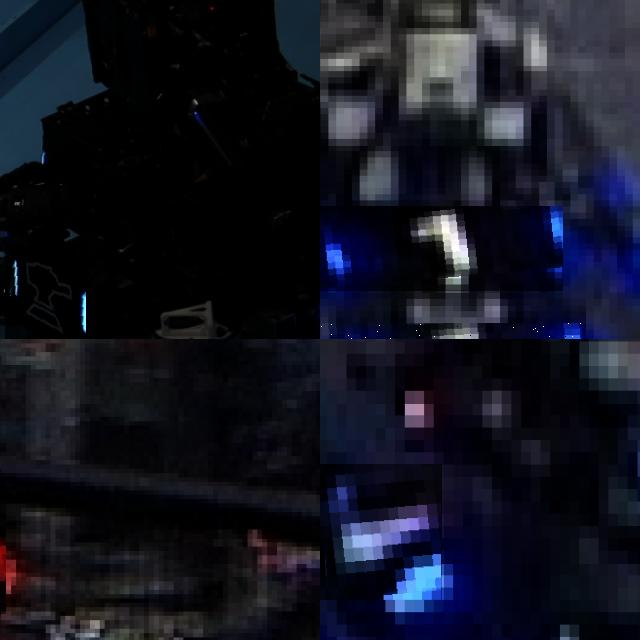B1: (320, 206, 562, 292)
B4: (320, 464, 443, 599)
Bs: (4, 244, 86, 339)
